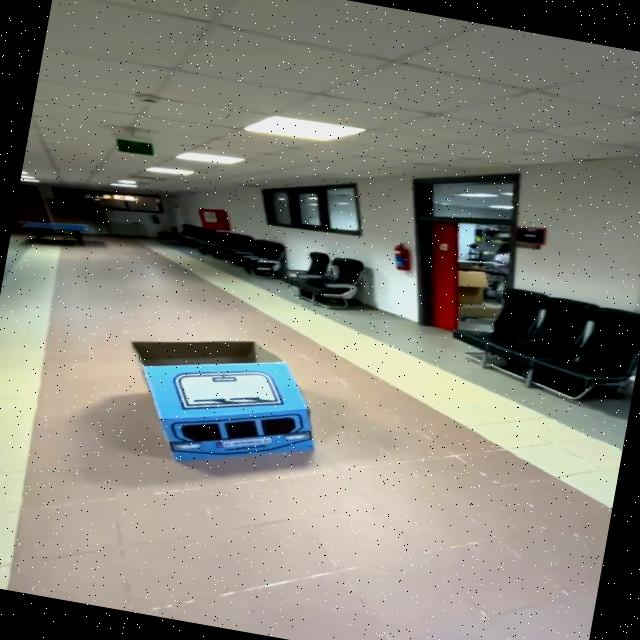blue_car: (69, 303, 386, 496)
